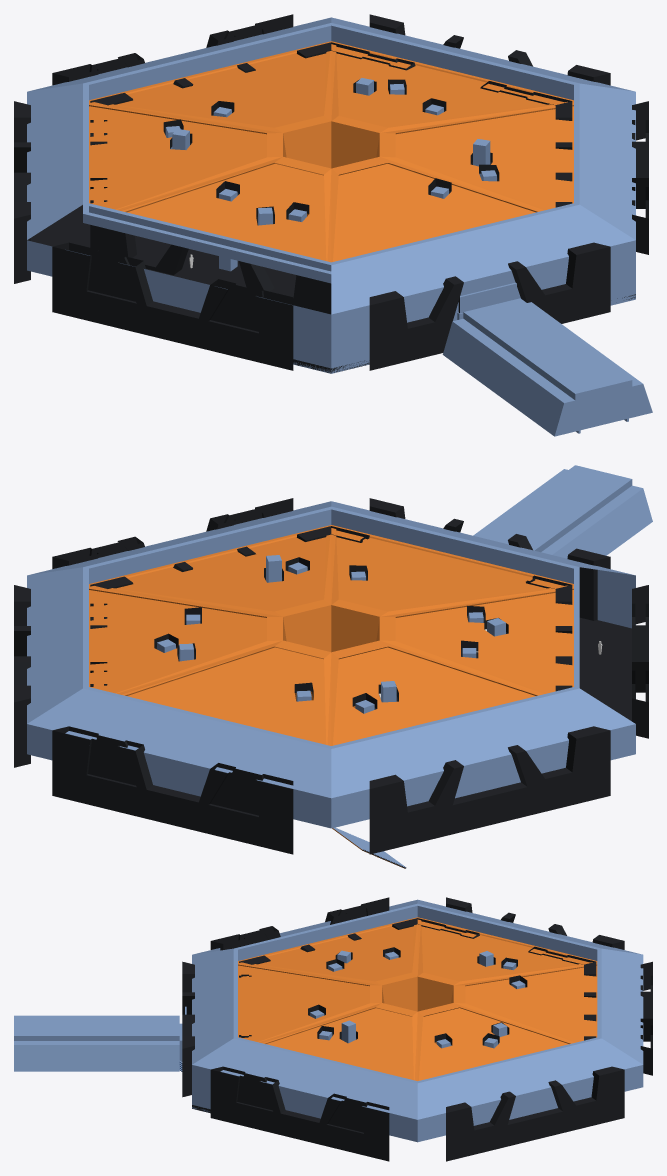
Rendered from scene_vision1.FBX.
The picture shows the model from 3 angles, top to bottom: view 1: azimuth 30°, elevation 25°; view 2: azimuth 150°, elevation 25°; view 3: azimuth 270°, elevation 25°; orthographic projection. The views are drawn at different scales.
Visible parts, largest first — view 1: Cylinder013, Object053, Object051, Object046, Object058, Object049, Object037, Object059, Object060, Object061, Object036, Object041 (+2 smaller); view 2: Cylinder013, Object059, Object049, Object058, Object061, Object051, Object053, Object060, Object037, Object047, Object046; view 3: Cylinder013, Object060, Object061, Object053, Object058, Object051, Object059, Object049, Object042, Object046.
Part boxes in pixels (x1=…): Cylinder013: x1=27, y1=17, x2=652, y2=436; Object053: x1=52, y1=242, x2=293, y2=370; Object051: x1=369, y1=242, x2=610, y2=370; Object046: x1=90, y1=225, x2=331, y2=314; Object058: x1=165, y1=78, x2=496, y2=271; Object049: x1=14, y1=101, x2=30, y2=283; Object037: x1=135, y1=161, x2=635, y2=373; Object059: x1=52, y1=14, x2=293, y2=85; Object060: x1=632, y1=101, x2=648, y2=254; Object061: x1=369, y1=14, x2=610, y2=85; Object036: x1=458, y1=282, x2=516, y2=313; Object041: x1=331, y1=42, x2=571, y2=112; Cylinder013: x1=27, y1=465, x2=652, y2=828; Object059: x1=52, y1=726, x2=293, y2=854; Object049: x1=369, y1=726, x2=610, y2=854; Object058: x1=157, y1=555, x2=505, y2=713; Object061: x1=14, y1=585, x2=30, y2=767; Object051: x1=369, y1=498, x2=610, y2=620; Object053: x1=632, y1=585, x2=648, y2=738; Object060: x1=52, y1=498, x2=293, y2=568; Object037: x1=154, y1=574, x2=631, y2=709; Object047: x1=90, y1=526, x2=331, y2=624; Object046: x1=555, y1=585, x2=572, y2=691; Cylinder013: x1=14, y1=899, x2=643, y2=1142; Object060: x1=210, y1=1066, x2=389, y2=1161; Object061: x1=446, y1=1066, x2=624, y2=1161; Object053: x1=210, y1=897, x2=389, y2=950; Object058: x1=310, y1=950, x2=525, y2=1048; Object051: x1=182, y1=961, x2=194, y2=1097; Object059: x1=640, y1=961, x2=652, y2=1075; Object049: x1=446, y1=897, x2=624, y2=949; Object042: x1=417, y1=918, x2=595, y2=987; Object046: x1=239, y1=918, x2=417, y2=964.
Bounding box in the file's own units: 88.75 × 109 × 16.79.
